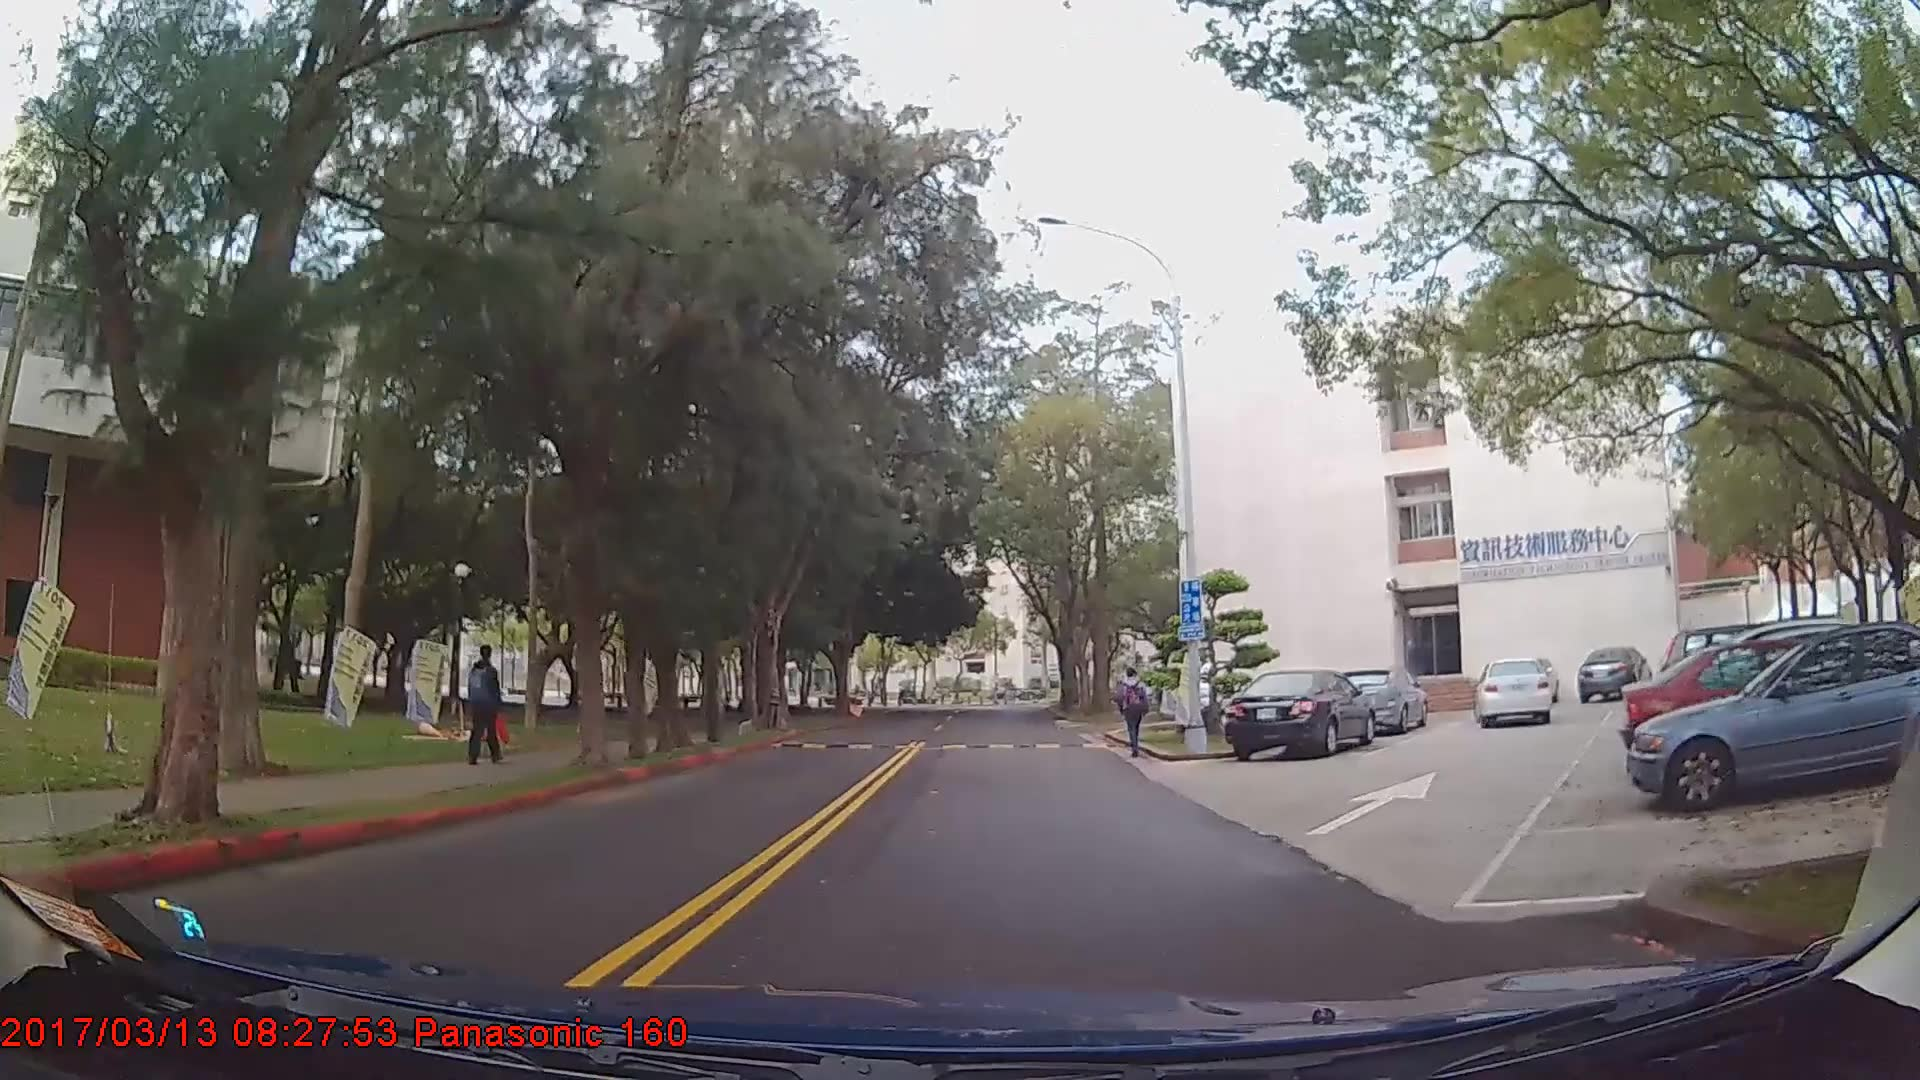pedestrian: (465, 648, 505, 770), (1120, 669, 1153, 761)
vehicle: (1625, 620, 1920, 811), (1618, 629, 1920, 769), (1226, 668, 1378, 761), (1336, 663, 1430, 735), (1475, 658, 1552, 727), (1577, 645, 1649, 702)
